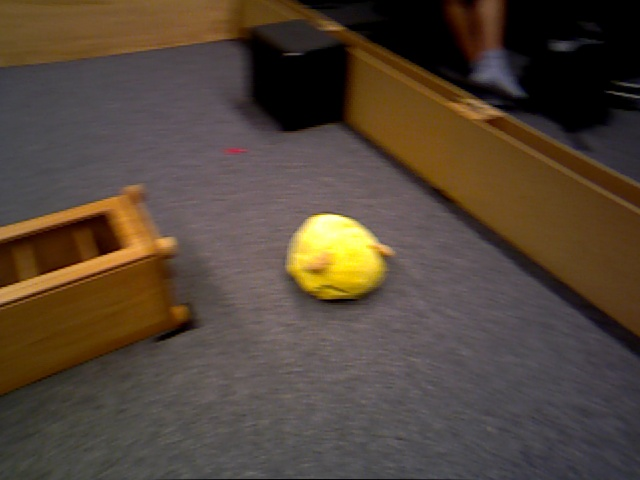grasp: (286, 212, 387, 300)
push: (247, 26, 346, 127)
